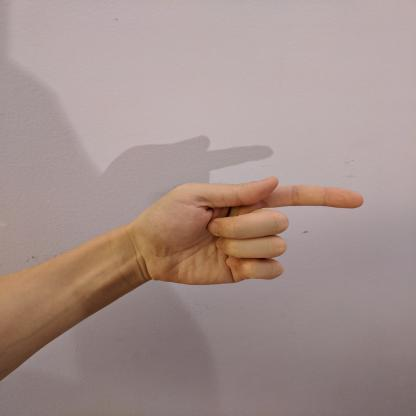G: (132, 173, 368, 290)
